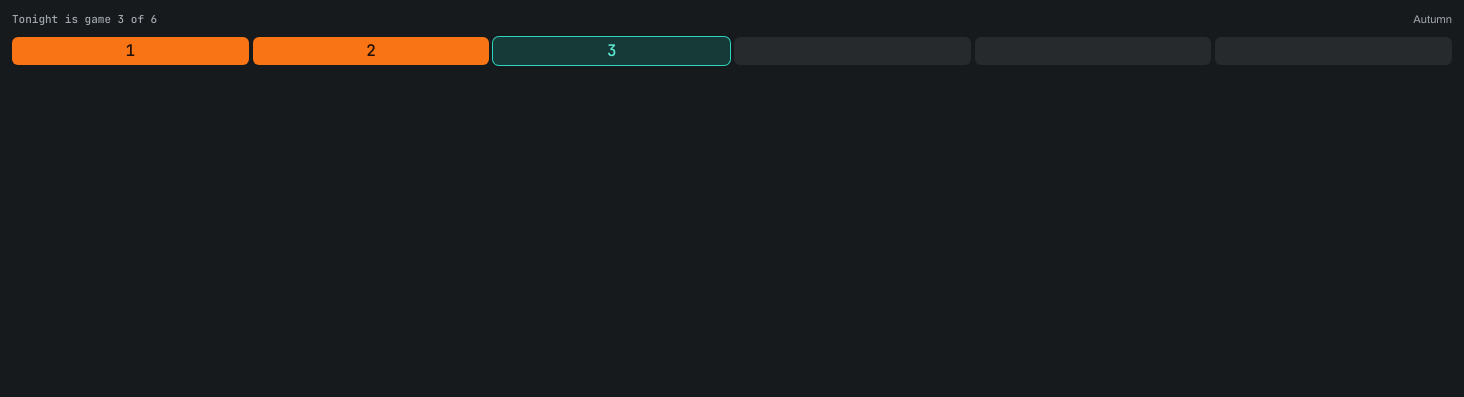
Test case: the season game bar › a played night with its live record shows the console's results table and exports it the same way
Later steps or results of the test are not shown.
Step 1. Click the button named "Game 2" → [371, 51], box [253,37,489,65]
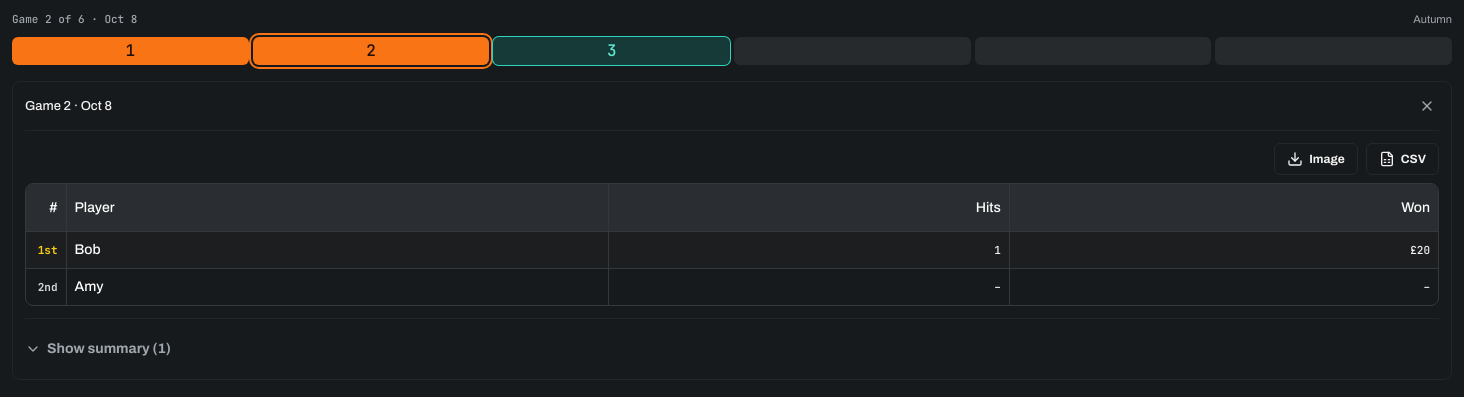
Now the button "CSV" is shown, box [1366,143,1439,175]
Now the table is shown, box [26,184,1438,305]
